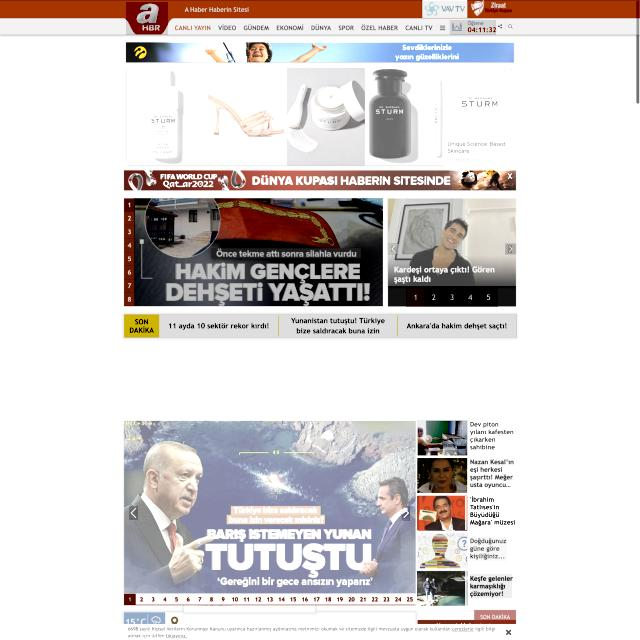ImageView: (127, 66, 514, 165), (126, 41, 514, 62), (124, 170, 516, 190)
Input field: (470, 495, 515, 526), (470, 421, 514, 452), (470, 458, 514, 489), (470, 574, 512, 598), (470, 537, 507, 561)
QR code: (124, 314, 517, 338), (451, 20, 496, 35)
Switch: (124, 420, 415, 594), (387, 198, 516, 287)
bag: (0, 1, 640, 35)
carousel: (130, 506, 137, 520), (402, 506, 409, 519), (497, 22, 503, 30), (508, 23, 514, 30), (508, 245, 512, 253), (391, 246, 396, 252)
copy: (124, 419, 416, 594), (134, 198, 383, 306), (388, 198, 516, 286), (417, 420, 468, 455), (417, 458, 467, 493), (418, 533, 468, 568), (418, 571, 468, 606), (418, 496, 468, 530)
date picker: (126, 2, 168, 35)
decoration: (174, 22, 448, 33), (129, 506, 138, 520), (402, 506, 410, 521), (388, 244, 399, 254), (505, 244, 516, 254)
dropdown: (124, 594, 416, 605), (406, 287, 498, 307), (124, 198, 135, 306)
header: (0, 624, 640, 640)
